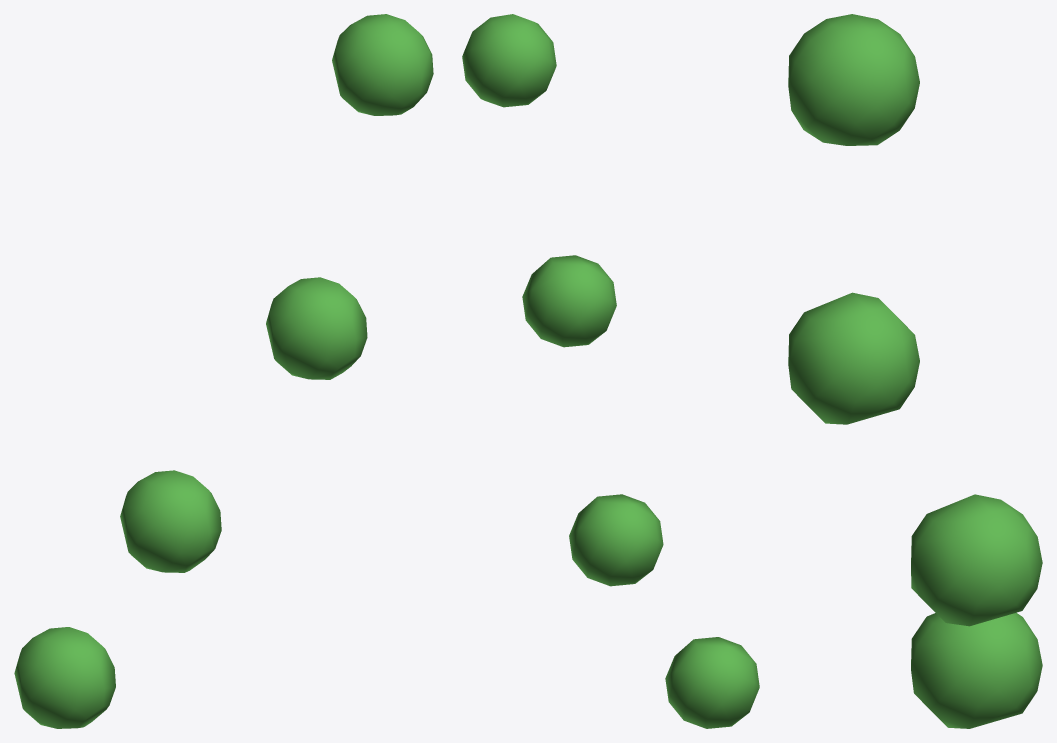
The model's file is linfatico-intermediate-common-iliac-nodes.glb.
The picture shows the model from 3 angles, left to right: view 1: azimuth 30°, elevation 25°; view 2: azimuth 150°, elevation 25°; view 3: azimuth 270°, elevation 25°; orthographic projection. The views are drawn at different scales.
Parts seen in each view (by area): view 1: Intermediate common iliac nodes; view 2: Intermediate common iliac nodes; view 3: Intermediate common iliac nodes.
Part boxes in pixels (x1,y1,x2,y2): Intermediate common iliac nodes: (14,14,433,728); Intermediate common iliac nodes: (462,14,759,728); Intermediate common iliac nodes: (788,14,1042,728).
Size of the model in its own units: 0.0102 by 0.0184 by 0.00485.
